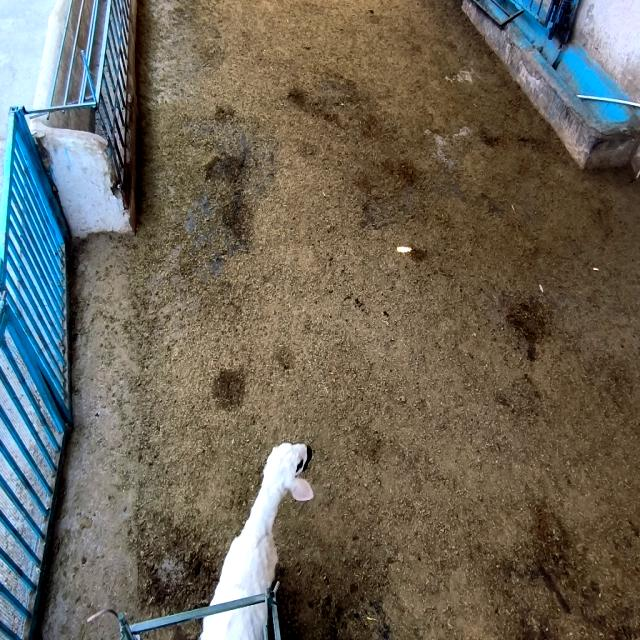sheep: (211, 443, 306, 605), (200, 605, 265, 639)
